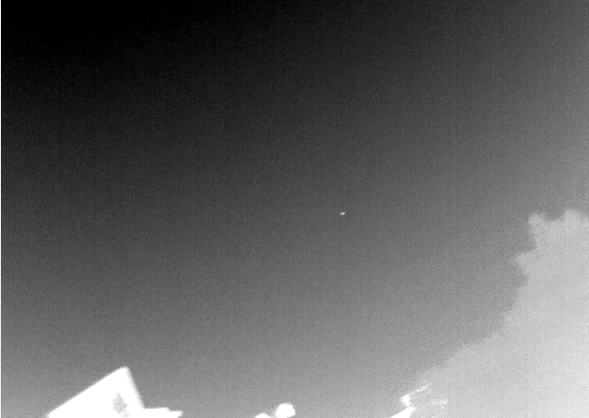dim target: (339, 211, 346, 216)
